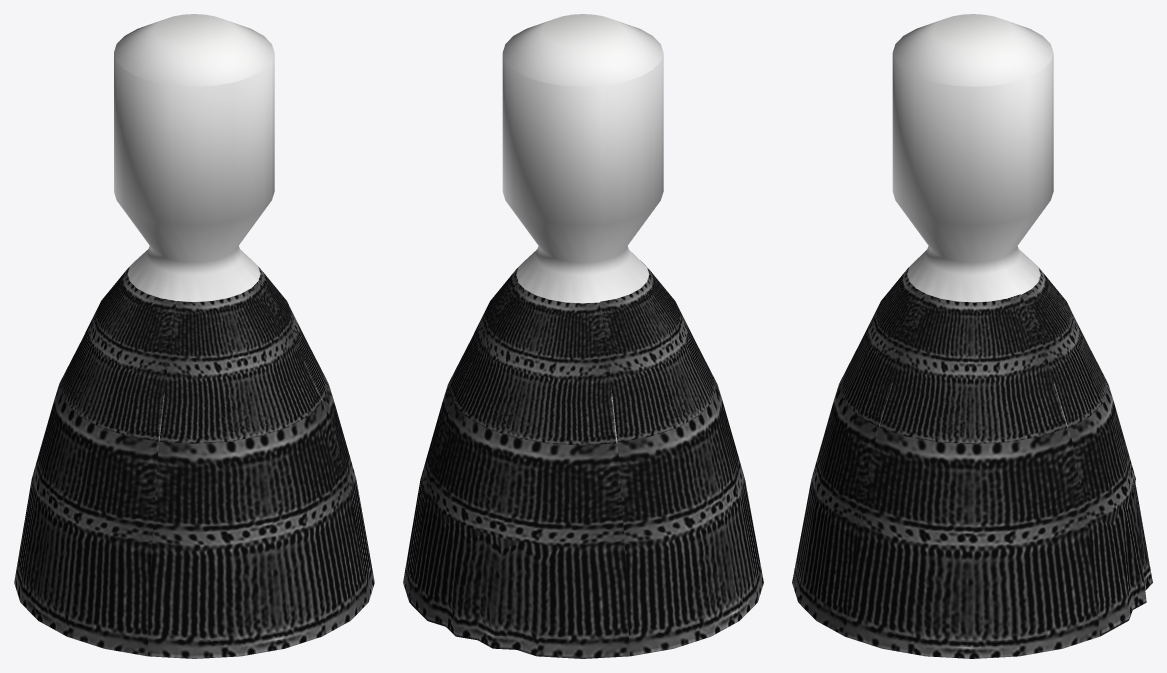
File: LR_87_LH2_Chamber.obj
3 renders of one model, left to right at view 1: azimuth 30°, elevation 25°; view 2: azimuth 150°, elevation 25°; view 3: azimuth 270°, elevation 25°, orthographic.
Parts seen in each view (by area): view 1: Cylinder2; view 2: Cylinder2; view 3: Cylinder2.
Boxes of the visible parts, <box> form: Cylinder2: <box>14,14,374,658</box>; Cylinder2: <box>403,14,763,658</box>; Cylinder2: <box>792,14,1152,658</box>.
Bounding box in the file's own units: 1.37 × 2.31 × 1.37.
